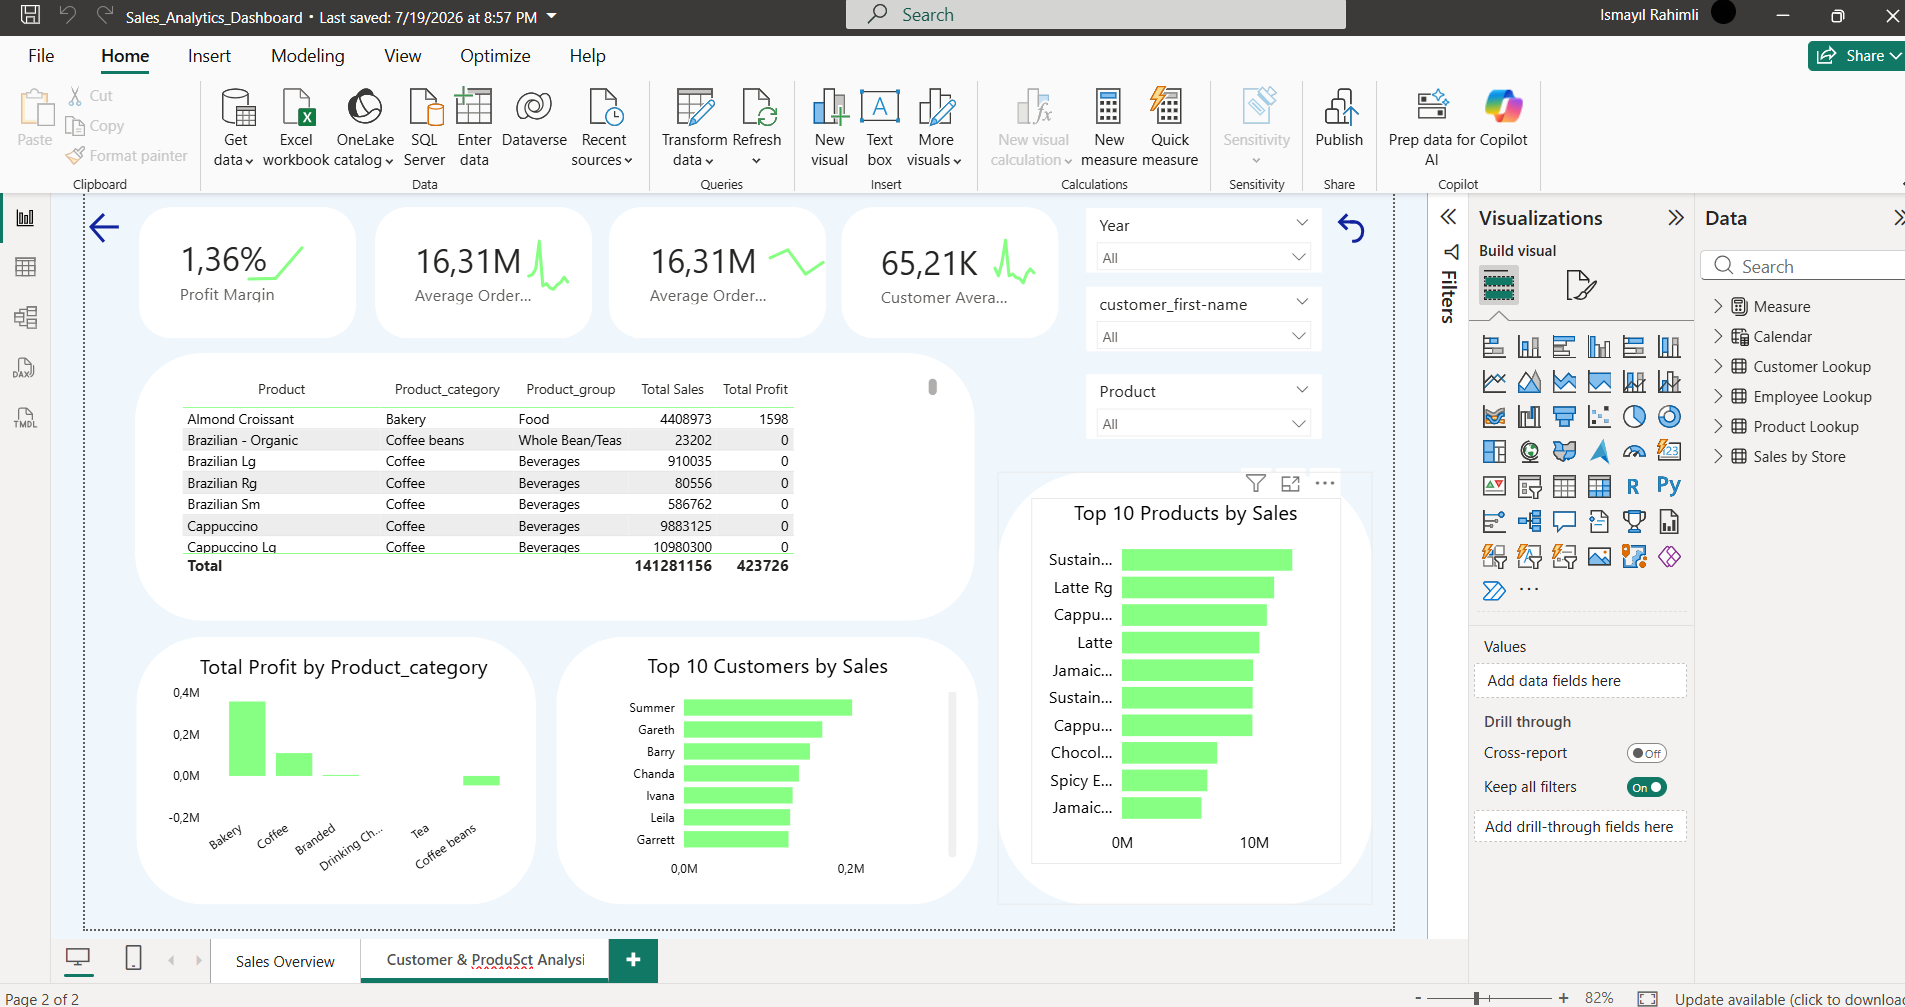

This screenshot's page, from the dashboard's own definition file:
{"tool":"powerbi","page":{"name":"Customer & Product Analysis","canvas":[1280,720],"ordinal":1},"visuals":[{"type":"group","id":"g1","title":"Group 4","box":[52.9,13.2,900,129.4],"z":0},{"type":"shape","box":[740.4,13.2,212.7,129],"z":0,"group":"g1"},{"type":"shape","box":[50.6,434.2,391.1,262],"z":0,"group":"g5"},{"type":"group","id":"g2","title":"Group 5","box":[979.7,15.2,230.4,225.3],"z":1000},{"type":"slicer","fields":{"Values":["Product Lookup.product"]},"box":[979.7,177.3,230.4,63.2],"z":1000,"group":"g2"},{"type":"columnChart","fields":{"Category":["Product Lookup.product_category"],"Y":["Measure.Total Profit"]},"box":[75.8,448.8,354.4,230.3],"z":1000,"group":"g5"},{"type":"shape","box":[512.6,13.2,212.7,129],"z":2000,"group":"g1"},{"type":"actionButton","box":[0,14.7,51,39],"z":2000},{"type":"shape","box":[283.4,13.2,212.7,129],"z":3000,"group":"g1"},{"type":"group","id":"g3","title":"Group 2","box":[892.4,272.2,367.1,424.1],"z":3000},{"type":"shape","box":[52.9,13.2,212.7,129],"z":4000,"group":"g1"},{"type":"group","id":"g4","title":"Group 2","box":[460.8,434.2,412.7,262],"z":4000},{"type":"slicer","fields":{"Values":["Calendar.Year"]},"box":[979.7,15.2,230.4,63.2],"z":5000,"group":"g2"},{"type":"shape","box":[49.4,157,821.5,262],"z":5000,"group":"g6"},{"type":"shape","box":[892.4,272.2,367.1,424.1],"z":5000,"group":"g3"},{"type":"group","id":"g5","title":"Group 1","box":[50.6,434.2,391.1,262],"z":5000},{"type":"shape","box":[460.8,434.2,412.7,262],"z":5000,"group":"g4"},{"type":"barChart","title":"Top 10 Products by Sales","fields":{"Category":["Product Lookup.product"],"Y":["Measure.Total Sales"]},"box":[925.9,297.8,302.5,358.2],"z":5012,"group":"g3"},{"type":"barChart","title":"Top 10 Customers by Sales","fields":{"Category":["Customer Lookup.customer_first-name"],"Y":["Measure.Total Sales"]},"box":[477.6,447.9,379.7,231.6],"z":5012,"group":"g4"},{"type":"slicer","fields":{"Values":["Customer Lookup.customer_first-name"]},"box":[979.7,92.1,230.4,63.2],"z":6000,"group":"g2"},{"type":"group","id":"g6","title":"Group 3","box":[49.4,157,821.5,262],"z":6000},{"type":"actionButton","box":[1219.4,15.3,51,39],"z":7000},{"type":"cardVisual","fields":{"Data":["Measure.Customer Average Sales"]},"box":[750.3,29.3,190.8,99],"z":8000,"group":"g1"},{"type":"cardVisual","fields":{"Data":["Measure.Average Order Value"]},"box":[524.1,26.8,190.8,99],"z":9000,"group":"g1"},{"type":"cardVisual","fields":{"Data":["Measure.Average Order Value"]},"box":[294.2,26.8,190.8,99],"z":10000,"group":"g1"},{"type":"cardVisual","fields":{"Data":["Measure.Profit Margin"]},"box":[64.4,26.2,189.5,97.8],"z":11000,"group":"g1"},{"type":"lineChart","fields":{"Y":["Measure.Customer Average Sales"],"Category":["Calendar.Month Number"]},"box":[871.6,28.3,81.9,73.4],"z":12000,"group":"g1"},{"type":"lineChart","fields":{"Y":["Measure.Average Order Value"],"Category":["Calendar.Quarter"]},"box":[655.2,28,81.9,73.4],"z":13000,"group":"g1"},{"type":"lineChart","fields":{"Category":["Calendar.Month Number"],"Y":["Measure.Average Order Value"]},"box":[416.6,28.3,81.9,73.4],"z":14000,"group":"g1"},{"type":"lineChart","fields":{"Y":["Measure.Profit Margin"],"Category":["Calendar.Year"]},"box":[146.2,31.7,81.9,63.6],"z":15000,"group":"g1"},{"type":"tableEx","fields":{"Values":["Product Lookup.product","Product Lookup.product_category","Product Lookup.product_group","Measure.Total Sales","Measure.Total Profit"]},"box":[90,177.2,749.5,203.8],"z":19004,"group":"g6"}]}

Visuals, with their boxes on the page's 1280x720 design canvas (x1, y1, x2, y2). These are canvas units, not pixel positions in the 1905x1007 screenshot, which may show the page scaled, cropped or inside an application window:
"Group 4" group: locate(53, 13, 953, 143)
shape: locate(740, 13, 953, 142)
shape: locate(51, 434, 442, 696)
"Group 5" group: locate(980, 15, 1210, 240)
slicer - Product Lookup.product: locate(980, 177, 1210, 240)
columnChart - Product Lookup.product_category x Measure.Total Profit: locate(76, 449, 430, 679)
shape: locate(513, 13, 725, 142)
actionButton: locate(0, 15, 51, 54)
shape: locate(283, 13, 496, 142)
"Group 2" group: locate(892, 272, 1260, 696)
shape: locate(53, 13, 266, 142)
"Group 2" group: locate(461, 434, 874, 696)
slicer - Calendar.Year: locate(980, 15, 1210, 78)
shape: locate(49, 157, 871, 419)
shape: locate(892, 272, 1260, 696)
"Group 1" group: locate(51, 434, 442, 696)
shape: locate(461, 434, 874, 696)
"Top 10 Products by Sales" barChart: locate(926, 298, 1228, 656)
"Top 10 Customers by Sales" barChart: locate(478, 448, 857, 680)
slicer - Customer Lookup.customer_first-name: locate(980, 92, 1210, 155)
"Group 3" group: locate(49, 157, 871, 419)
actionButton: locate(1219, 15, 1270, 54)
cardVisual - Measure.Customer Average Sales: locate(750, 29, 941, 128)
cardVisual - Measure.Average Order Value: locate(524, 27, 715, 126)
cardVisual - Measure.Average Order Value: locate(294, 27, 485, 126)
cardVisual - Measure.Profit Margin: locate(64, 26, 254, 124)
lineChart - Measure.Customer Average Sales x Calendar.Month Number: locate(872, 28, 954, 102)
lineChart - Measure.Average Order Value x Calendar.Quarter: locate(655, 28, 737, 101)
lineChart - Calendar.Month Number x Measure.Average Order Value: locate(417, 28, 498, 102)
lineChart - Measure.Profit Margin x Calendar.Year: locate(146, 32, 228, 95)
tableEx - Product Lookup.product x Product Lookup.product_category: locate(90, 177, 840, 381)
